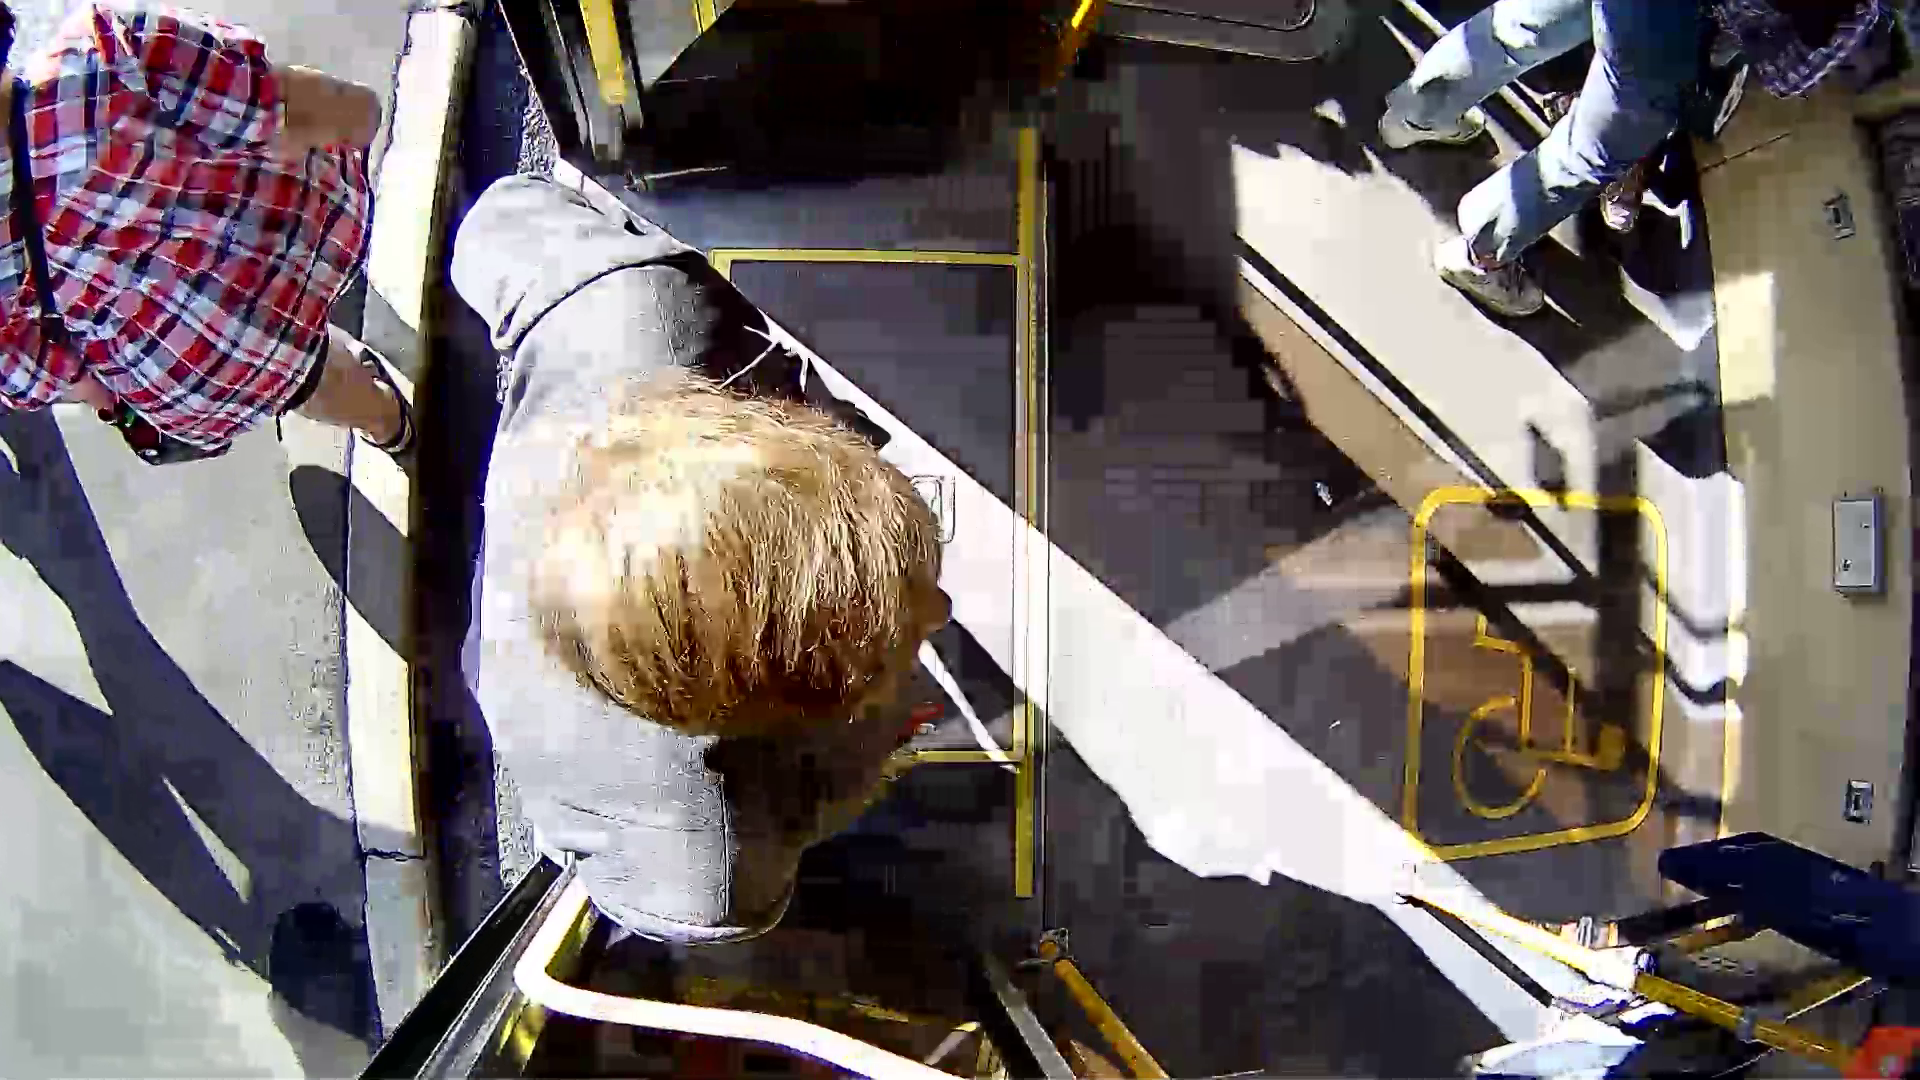person: (302, 165, 1074, 944)
